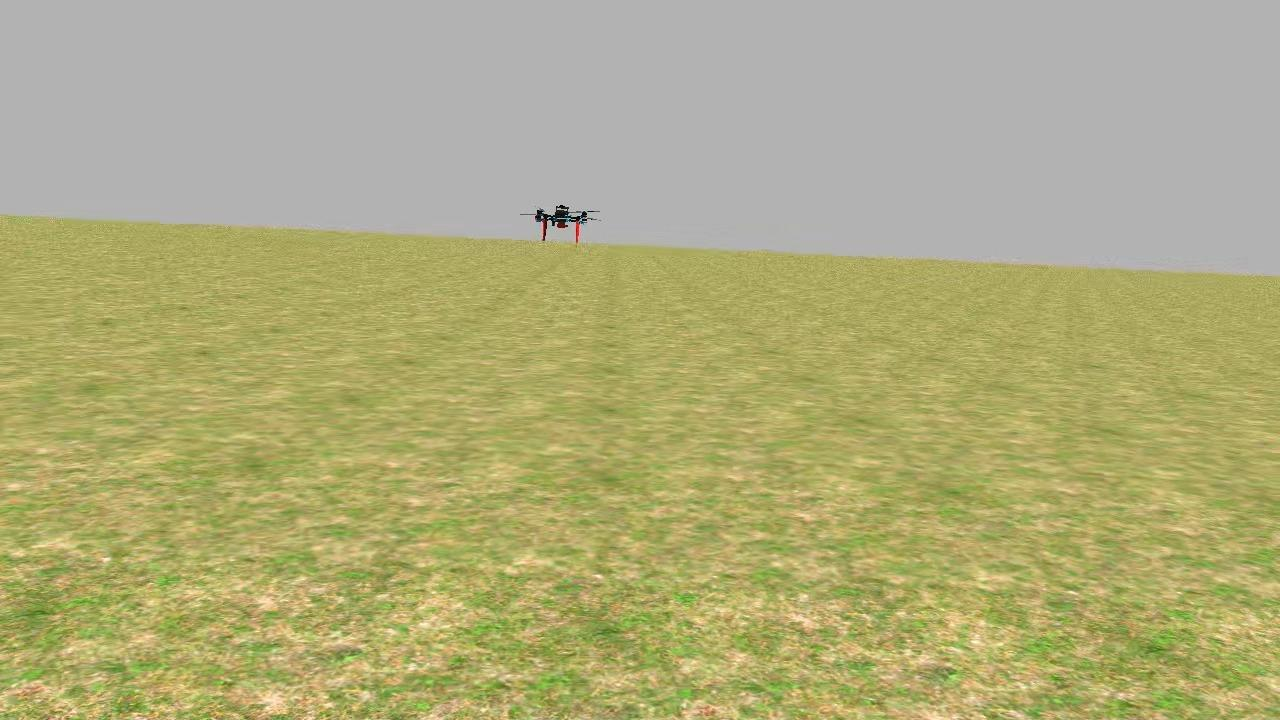UAV: (521, 185, 605, 246)
